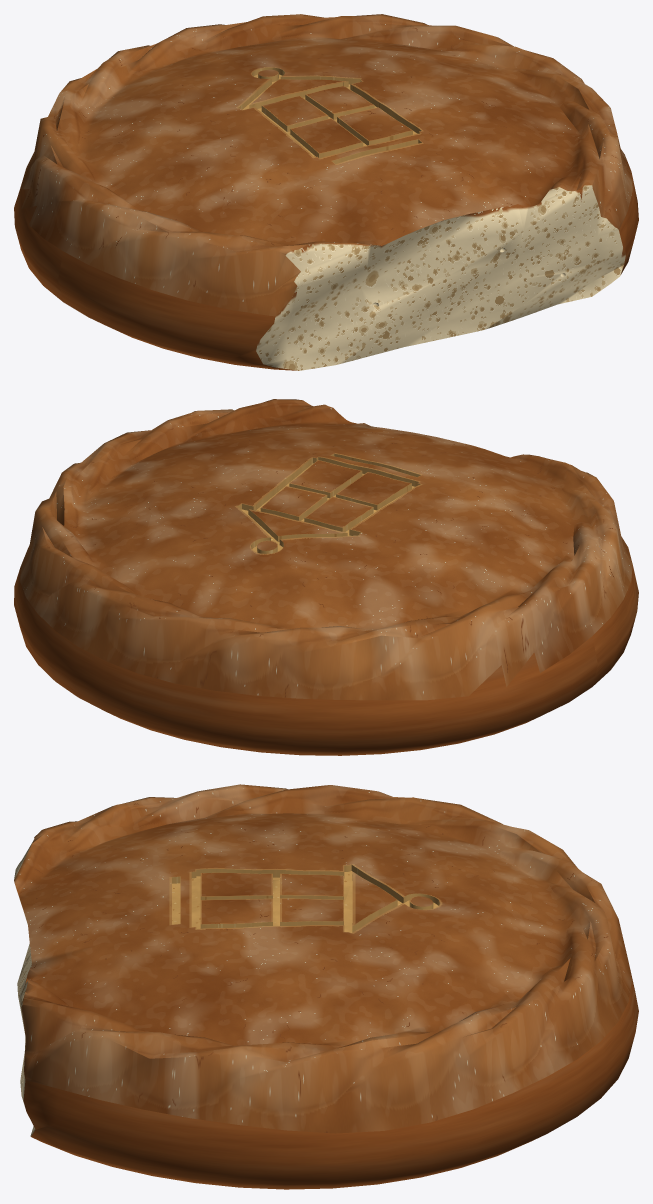
File: festival_loaf.glb
The picture shows the model from 3 angles, top to bottom: view 1: azimuth 30°, elevation 25°; view 2: azimuth 150°, elevation 25°; view 3: azimuth 270°, elevation 25°; orthographic projection. The views are drawn at different scales.
Visible parts, largest first — view 1: Festival_Loaf; view 2: Festival_Loaf; view 3: Festival_Loaf.
Part boxes in pixels (<box>): Festival_Loaf: <box>14,14,638,370</box>; Festival_Loaf: <box>14,399,638,755</box>; Festival_Loaf: <box>14,784,638,1189</box>.
Size of the model in its own units: 0.6 by 0.1499 by 0.5301.
Materials: 1 (1 with a texture image).
